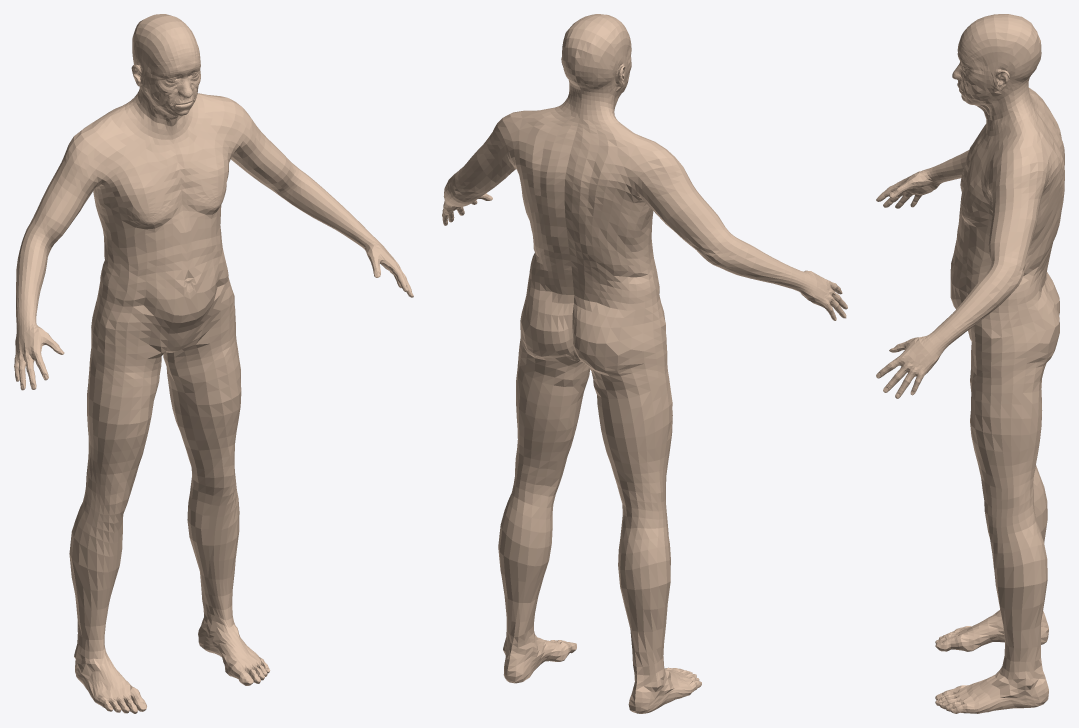
File: male-elder-heavy-strong.glb
3 views of the same model, side by side, from view 1: azimuth 30°, elevation 25°; view 2: azimuth 150°, elevation 25°; view 3: azimuth 270°, elevation 25° (orthographic).
Parts seen in each view (by area): view 1: world; view 2: world; view 3: world.
Part boxes in pixels (left/top/right/bottom): world: left=14, top=14, right=413, bottom=713; world: left=442, top=14, right=847, bottom=713; world: left=876, top=14, right=1064, bottom=713.
Bounding box in the file's own units: 1.22 × 1.95 × 0.5078.
